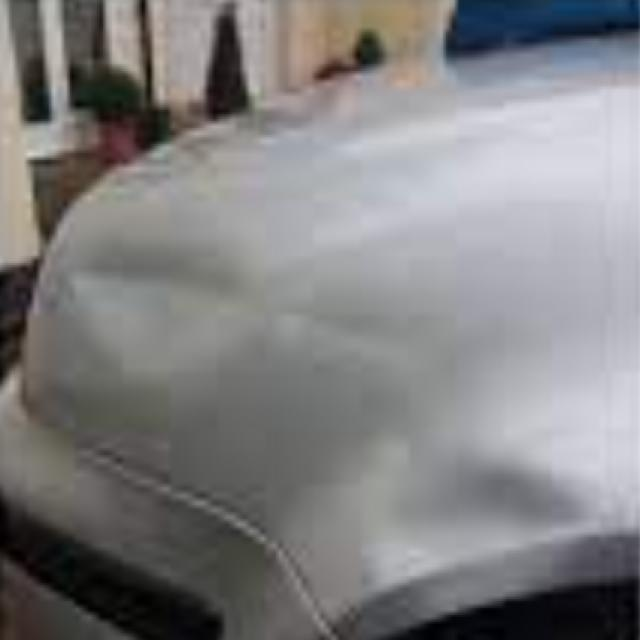dents: (386, 396, 586, 582), (73, 216, 241, 414)
